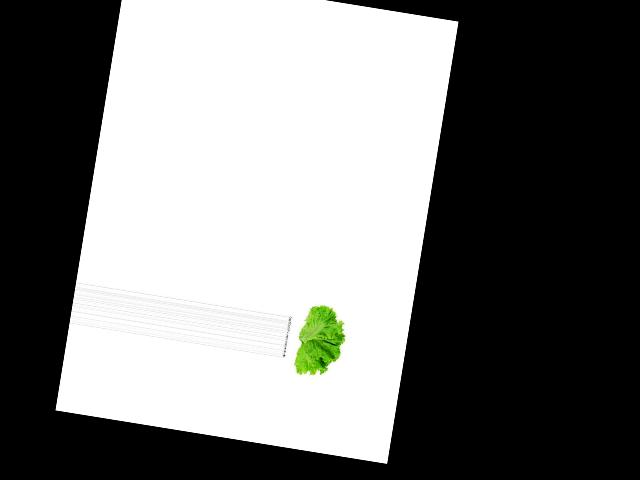lettuce: (283, 299, 350, 381)
